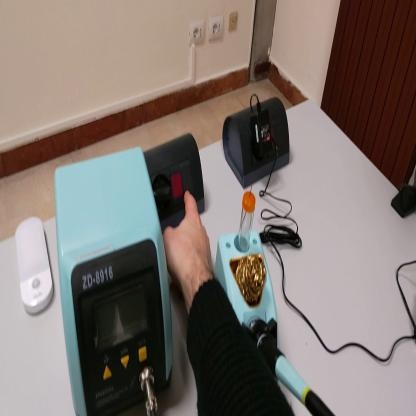hand: (162, 190, 214, 293)
socket: (221, 93, 294, 188), (145, 136, 206, 239)
welder base: (213, 192, 283, 361)
welder probe tip: (257, 327, 336, 416)
welder station: (56, 146, 175, 416)
